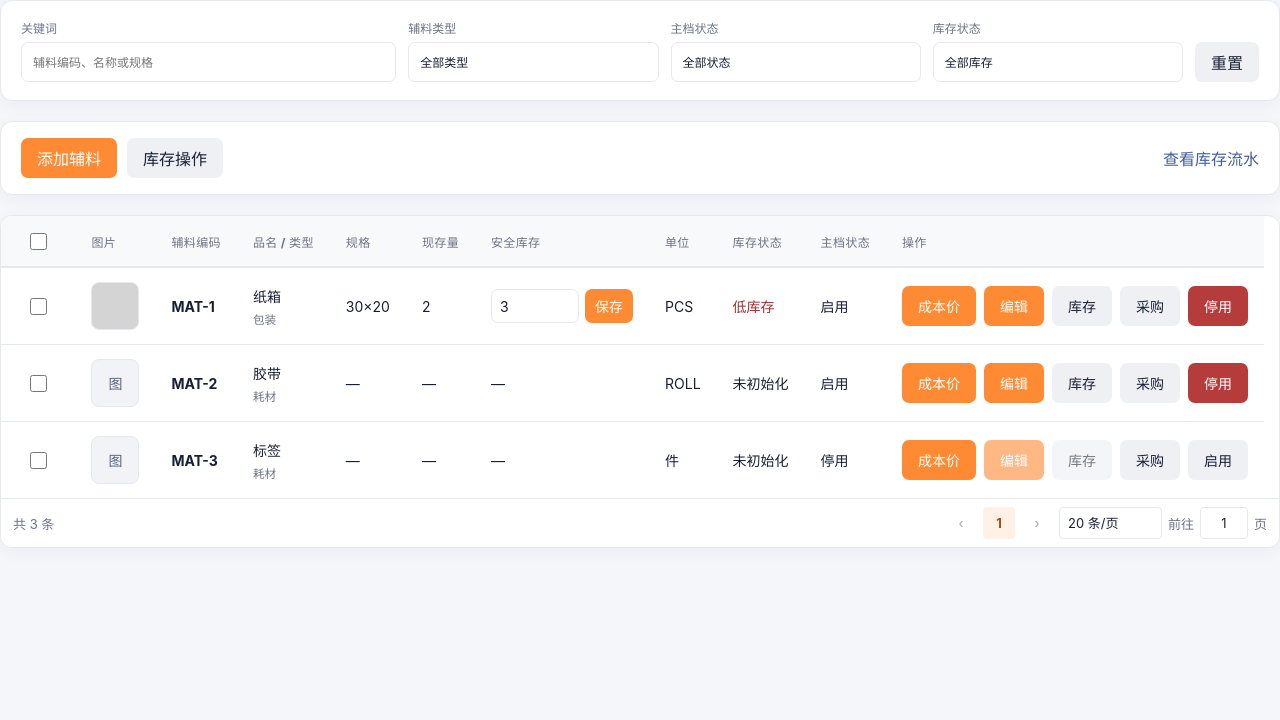
Test case: MaterialsView merged material management › only accepts whole numbers for inventory quantity and safety stock
The image size is (1280, 720).
Click the button "库存" in the row of "MAT-1".
click(1082, 306)  # box [1052,286,1112,326]
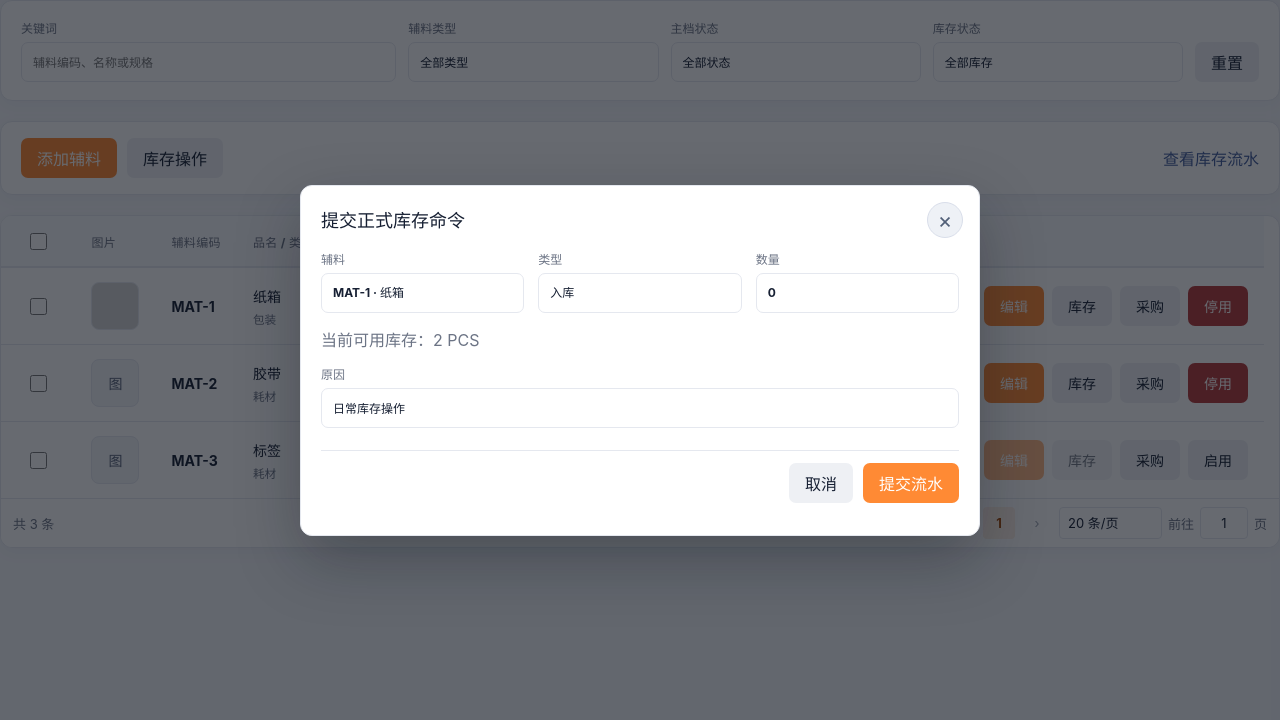
Replace the text in the number field labelled "数量" with "1.5" at (857, 292), box [756,272,959,312]
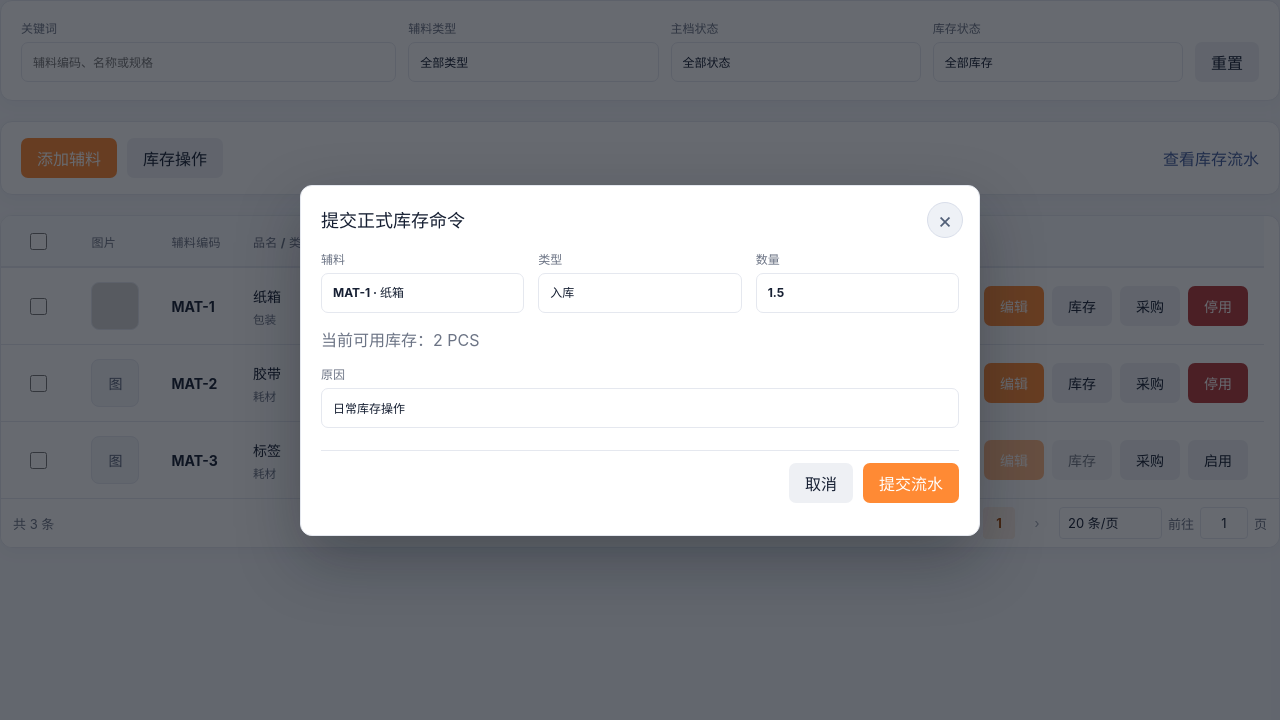
Submit the form "× 提交正式库存命令 辅料 类型 数量 当前可用库存：2 PCS 原因 取消 提交流水", box [300,184,980,536]
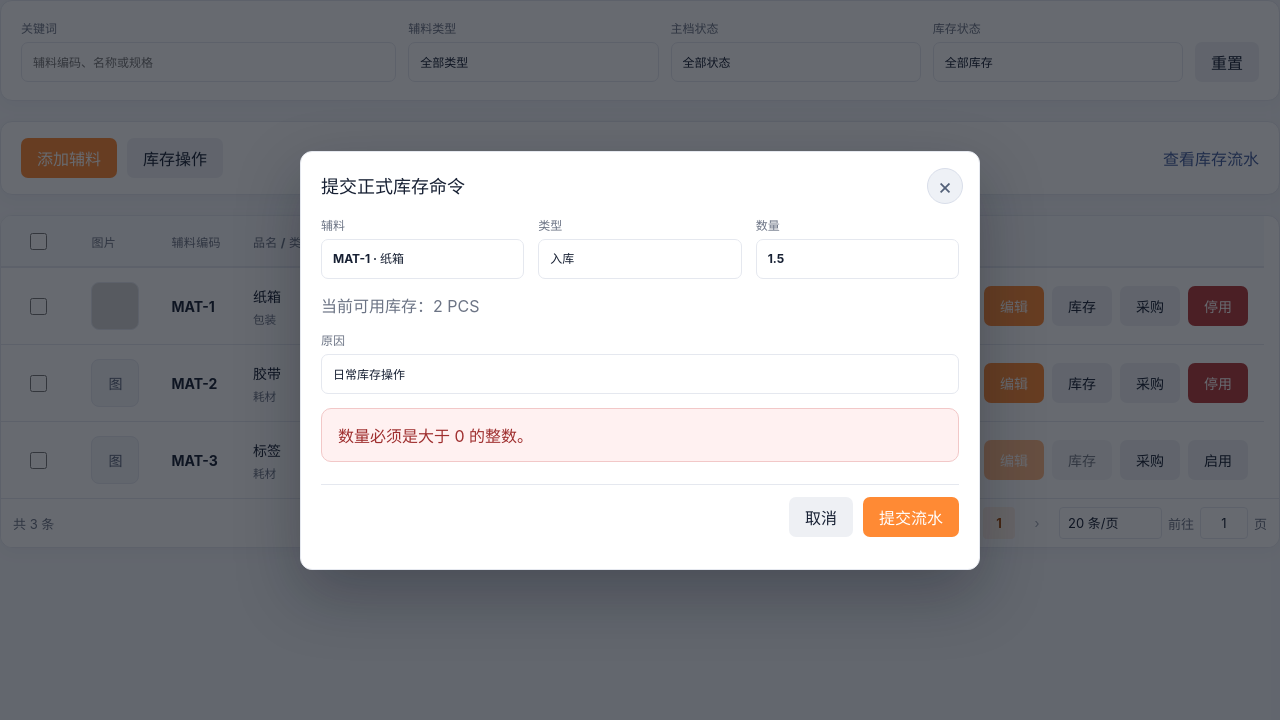
Expected: the message "数量必须是大于 0 的整数。" is shown, [321,408,959,462]
Click the button named "关闭库存操作".
click(945, 186)  # box [927,168,963,204]
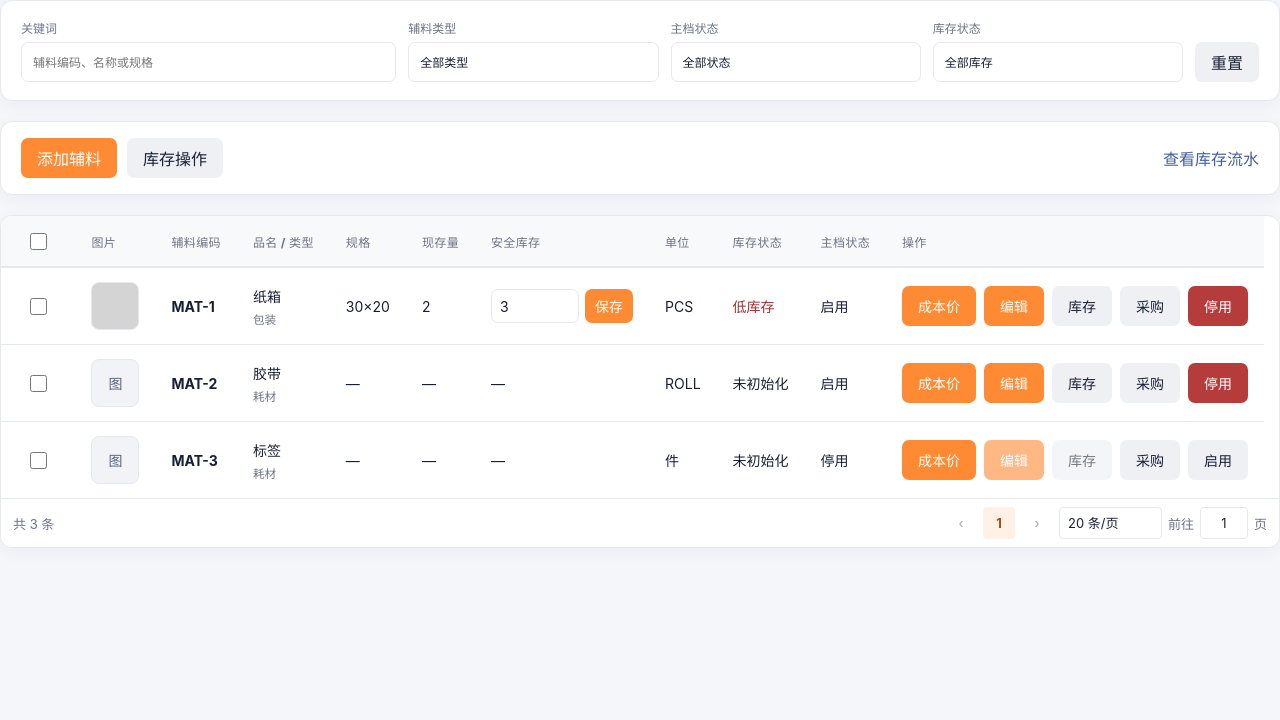
Replace the text in the number field named "MAT-1安全库存" with "2.5" at (535, 306), box [491,289,579,323]
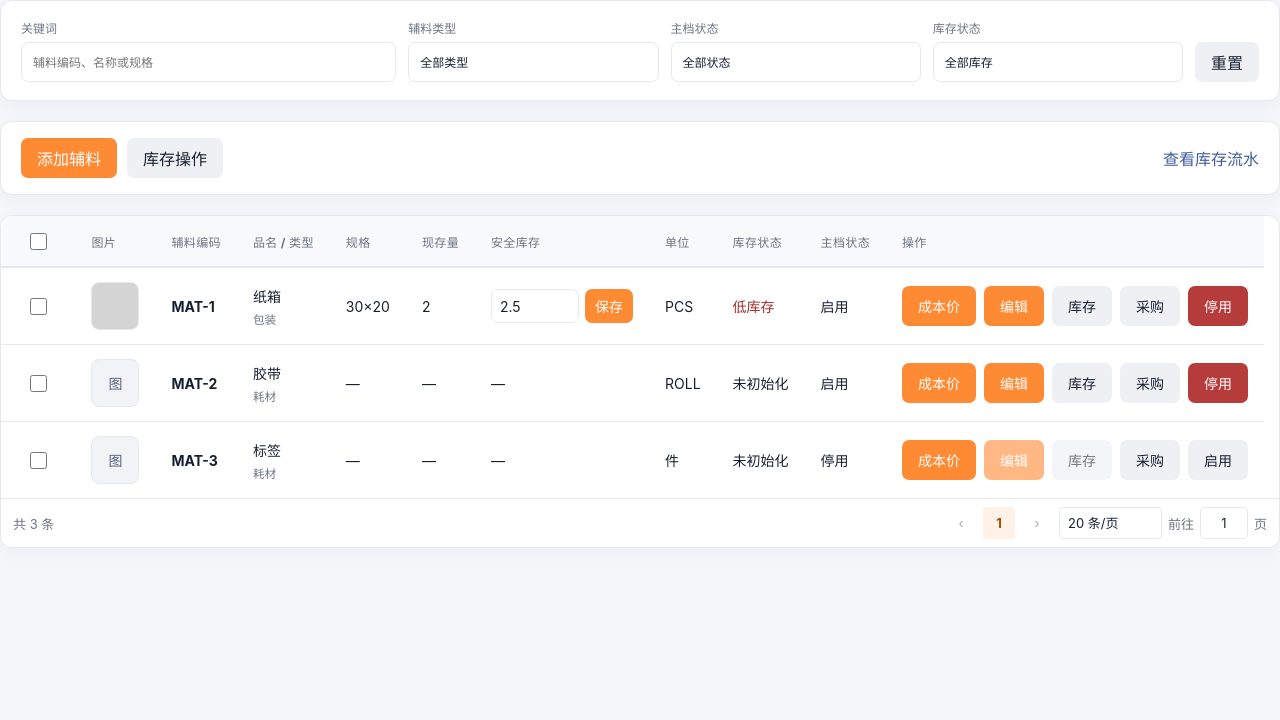
Click the button "保存".
click(609, 306)  # box [585,289,633,323]
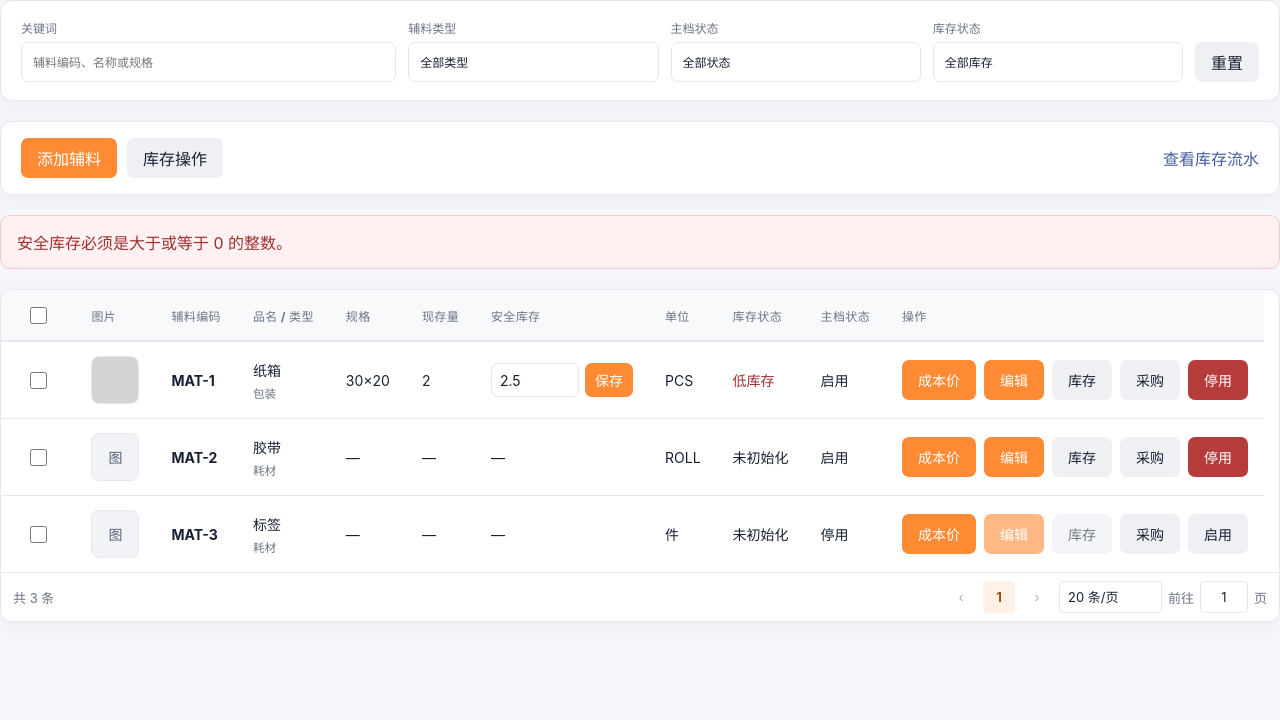
Expected: the message "安全库存必须是大于或等于 0 的整数。" is shown, [0,215,1279,269]
